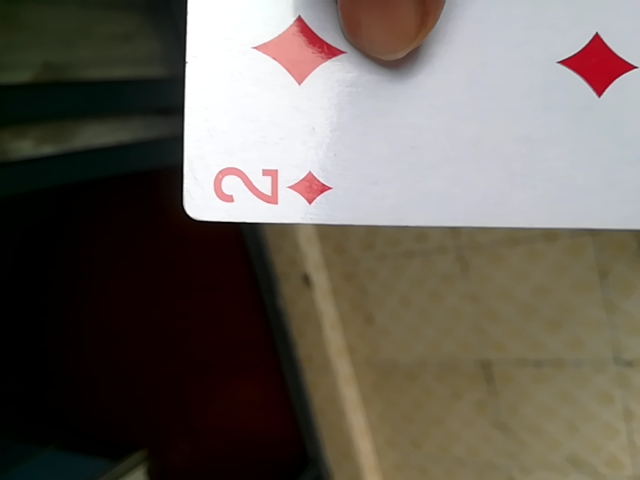fk 2: (147, 2, 640, 239)
